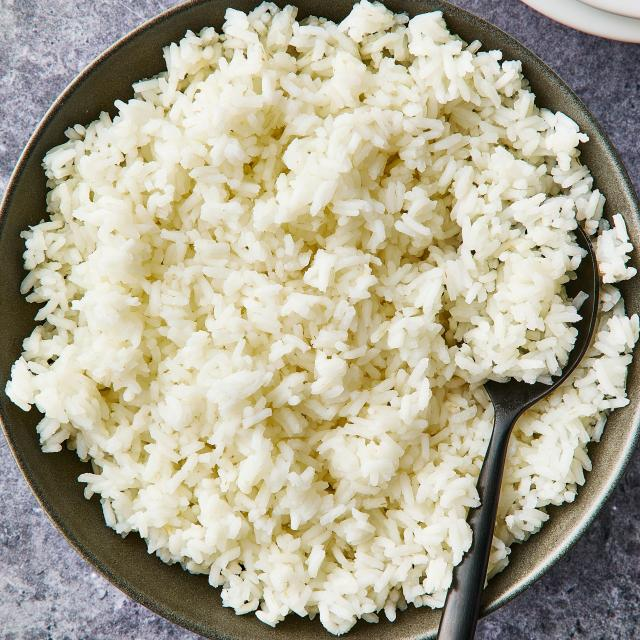rice: (51, 10, 609, 594)
